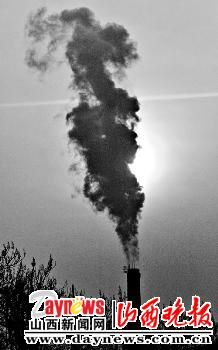dust: (75, 99, 155, 273)
